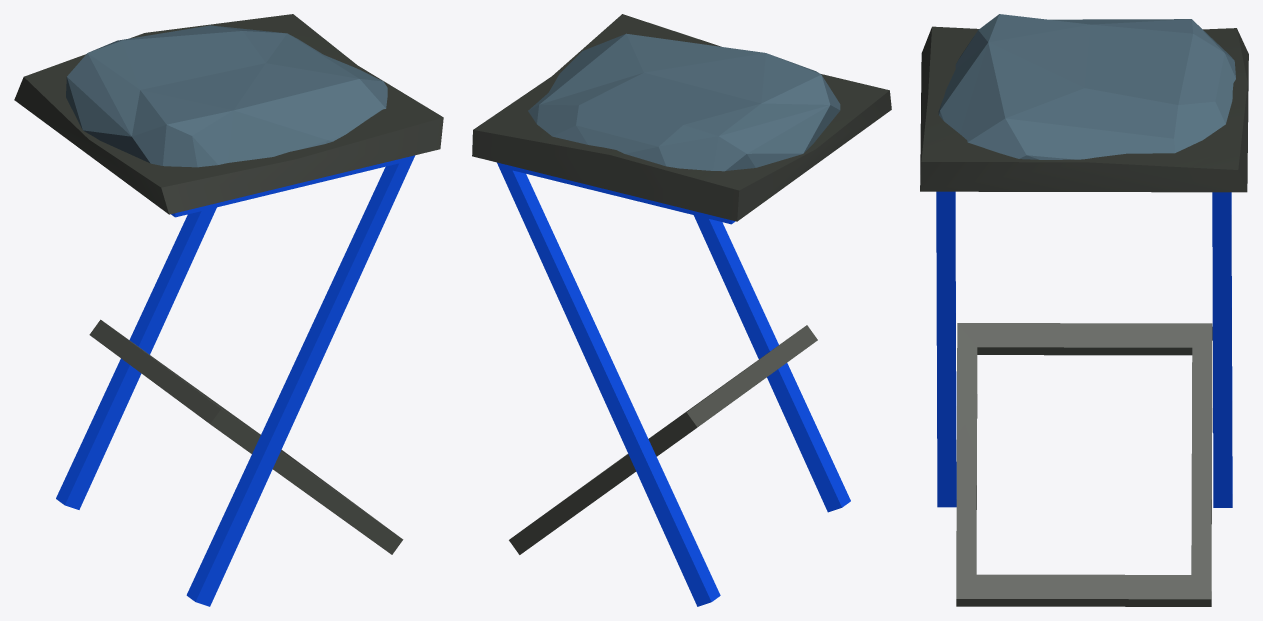
The model's file is Stool_B.glb.
The picture shows the model from 3 angles, left to right: view 1: azimuth 30°, elevation 25°; view 2: azimuth 150°, elevation 25°; view 3: azimuth 270°, elevation 25°; orthographic projection. The views are drawn at different scales.
Visible parts, largest first — view 1: BarChair_B; view 2: BarChair_B; view 3: BarChair_B.
Boxes of the visible parts, bbox=[...] form: BarChair_B: bbox=[14, 14, 443, 606]; BarChair_B: bbox=[472, 14, 891, 606]; BarChair_B: bbox=[920, 14, 1248, 606].
Size of what is drawn, in the model's own units: 0.6171 by 0.9966 by 0.6029.
1 material, 1 textured.
